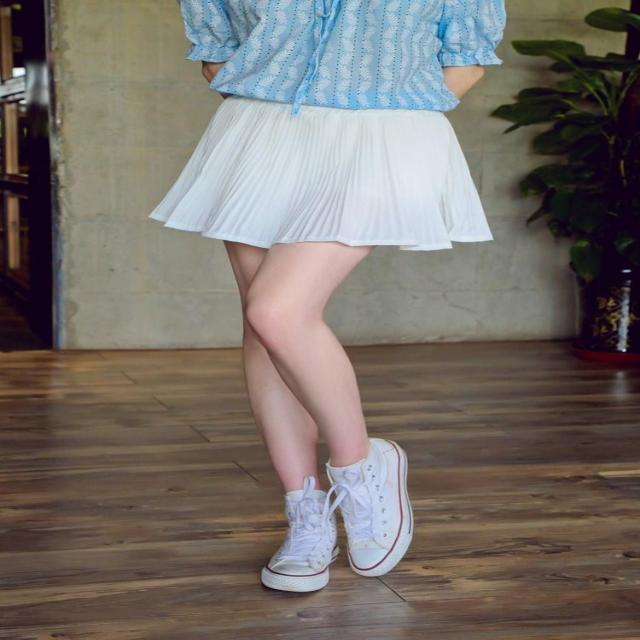short sleeve top: (213, 2, 453, 112)
skirt: (150, 92, 493, 242)
